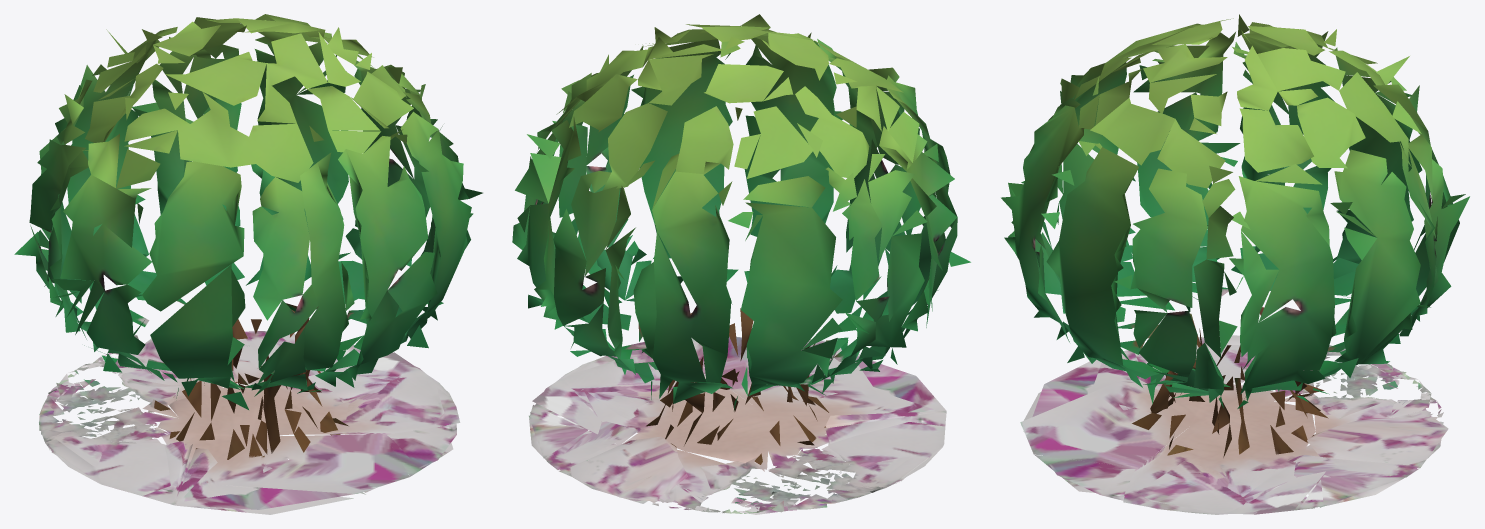
The model's file is Landing_Bush.glb.
The picture shows the model from 3 angles, left to right: view 1: azimuth 30°, elevation 25°; view 2: azimuth 150°, elevation 25°; view 3: azimuth 270°, elevation 25°; orthographic projection.
Parts seen in each view (by area): view 1: Landing_Bush; view 2: Landing_Bush; view 3: Landing_Bush.
Boxes of the visible parts, x1,y1,x2,y2 form: Landing_Bush: (14, 14, 482, 514); Landing_Bush: (512, 14, 970, 514); Landing_Bush: (1001, 14, 1469, 514).
Bounding box in the file's own units: 0.9143 × 0.8791 × 0.932.
1 material, 1 textured.
